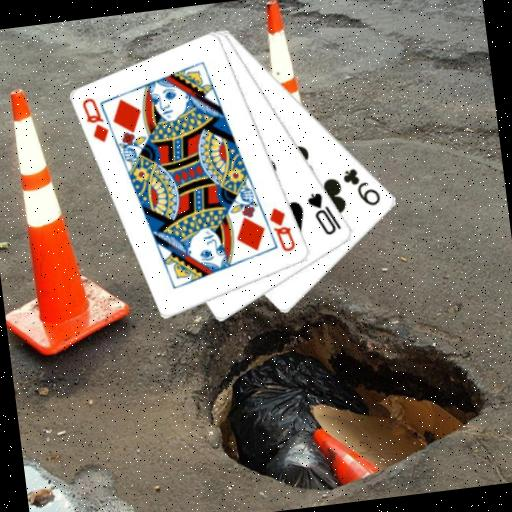10S: (304, 187, 345, 240)
9C: (339, 161, 384, 211)
QD: (78, 93, 112, 147), (266, 202, 299, 255)
